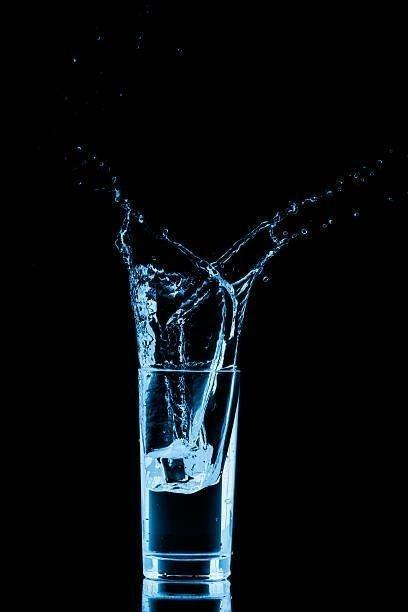glass-normal: (131, 363, 244, 580)
